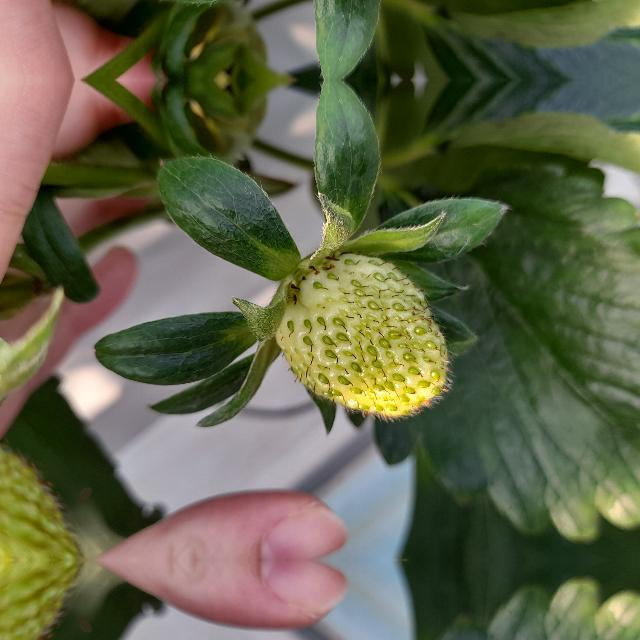Health_25: (274, 252, 458, 423)
